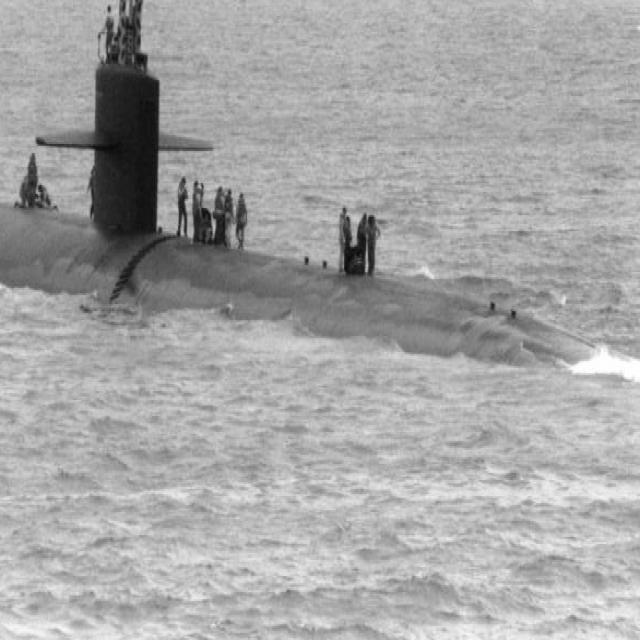submarine: (1, 60, 640, 383)
